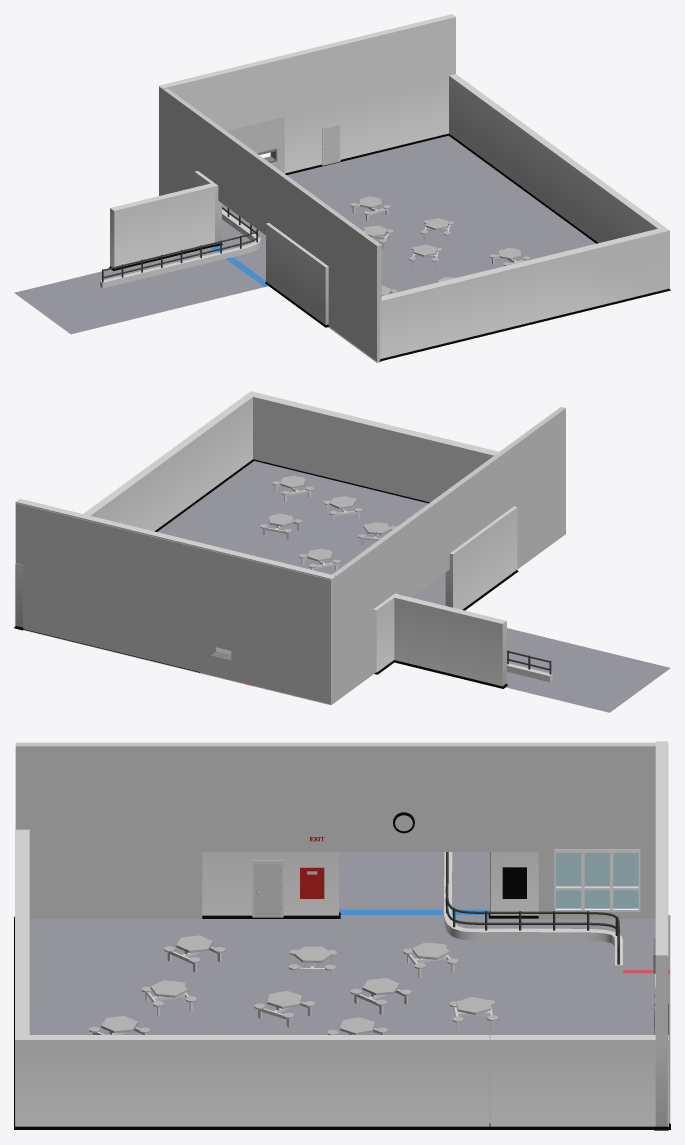
File: Cafeteria.fbx
3 renders of one model, top to bottom at view 1: azimuth 30°, elevation 25°; view 2: azimuth 150°, elevation 25°; view 3: azimuth 270°, elevation 25°, orthographic. The views are drawn at different scales.
Visible parts, largest first — view 1: Cafeteria, Wall_Drywall, Wall.008, Wall.004, Wall.007, Wall.011, Wall.013, Wall.010, Wall.003, Wall.001, Wall.005, Wall (+8 smaller); view 2: Wall_Drywall, Cafeteria, Wall.007, Wall.003, Wall.008, Wall.005, Wall.002, Wall.009, Wall.001, Wall.004, Wall.006, Wall.011 (+7 smaller); view 3: Wall_Drywall, Cafeteria, Wall.001, Wall.002, Wall, Wall.009, Wall.005, Cube, Wall.006, Wall.011, LineStanchons, Door (+17 smaller).
Part boxes in pixels (x1,y1,x2,y2): Cafeteria: [14, 135, 595, 361]; Wall_Drywall: [159, 86, 381, 362]; Wall.008: [562, 228, 669, 316]; Wall.004: [379, 272, 483, 361]; Wall.007: [109, 183, 214, 270]; Wall.011: [349, 14, 455, 99]; Wall.013: [247, 39, 353, 124]; Wall.010: [352, 75, 448, 158]; Wall.003: [479, 247, 586, 336]; Wall.001: [504, 114, 570, 219]; Wall.005: [265, 223, 328, 327]; Wall: [448, 74, 510, 175]; Wall_Drywall: [15, 407, 565, 704]; Cafeteria: [23, 461, 670, 712]; Wall.007: [391, 593, 507, 688]; Wall.003: [334, 413, 451, 503]; Wall.008: [246, 391, 365, 486]; Wall.005: [445, 506, 518, 610]; Wall.002: [144, 422, 216, 531]; Wall.009: [187, 391, 256, 504]; Wall.001: [83, 469, 151, 530]; Wall.004: [446, 440, 498, 490]; Wall.006: [373, 593, 397, 674]; Wall.011: [15, 498, 130, 529]; Wall_Drywall: [15, 742, 668, 1039]; Cafeteria: [29, 852, 670, 1123]; Wall.001: [309, 1035, 489, 1129]; Wall.002: [132, 1035, 312, 1129]; Wall: [489, 1035, 670, 1129]; Wall.009: [14, 1035, 194, 1129]; Wall.005: [202, 852, 340, 918]; Cube: [443, 852, 622, 973]; Wall.006: [488, 852, 538, 918]; Wall.011: [655, 879, 667, 1040]; LineStanchons: [445, 852, 619, 964]; Door: [254, 863, 280, 917].
Bounding box in the file's own units: 2901 × 659 × 2225.
